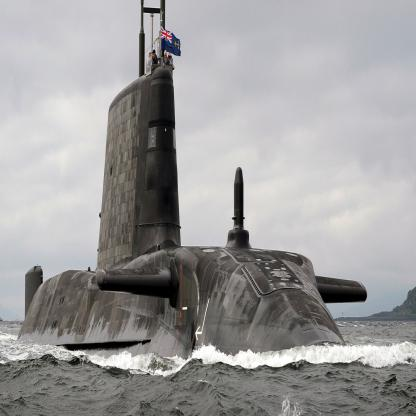Submarine: (16, 0, 368, 361)
